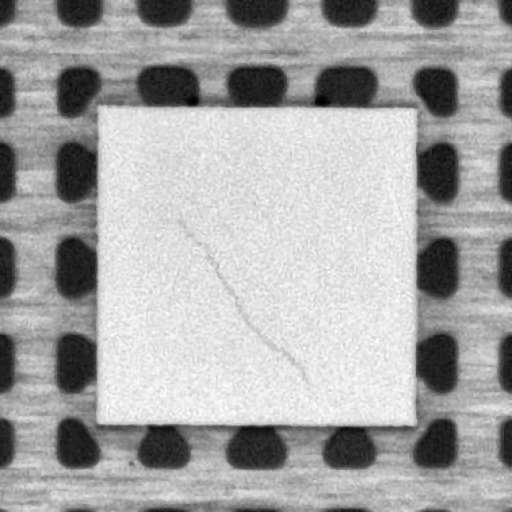DIE_CRACK: (180, 219, 310, 384)
